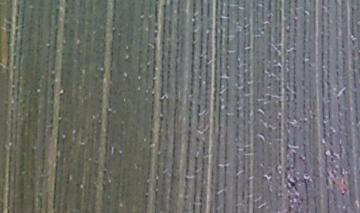tarspot: (289, 179, 297, 189)
